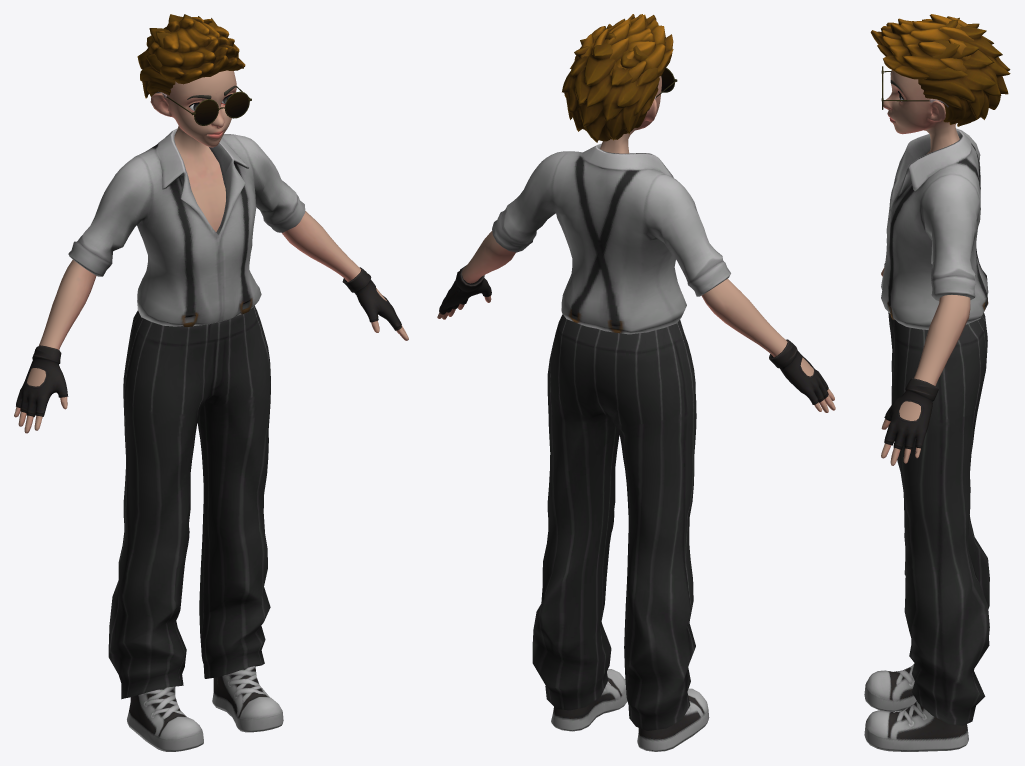
Rendered from StaffGoldman_Mesh.obj.
The picture shows the model from 3 angles, left to right: view 1: azimuth 30°, elevation 25°; view 2: azimuth 150°, elevation 25°; view 3: azimuth 270°, elevation 25°; orthographic projection.
Parts seen in each view (by area): view 1: StaffGoldman_Mesh_0; view 2: StaffGoldman_Mesh_0; view 3: StaffGoldman_Mesh_0.
Boxes of the visible parts, left/top/right/bottom form: StaffGoldman_Mesh_0: left=14, top=14, right=408, bottom=751; StaffGoldman_Mesh_0: left=437, top=14, right=835, bottom=751; StaffGoldman_Mesh_0: left=864, top=14, right=1010, bottom=751.
Size of the model in its own units: 1.06 by 1.84 by 0.3456.
Materials: 1 (1 with a texture image).
